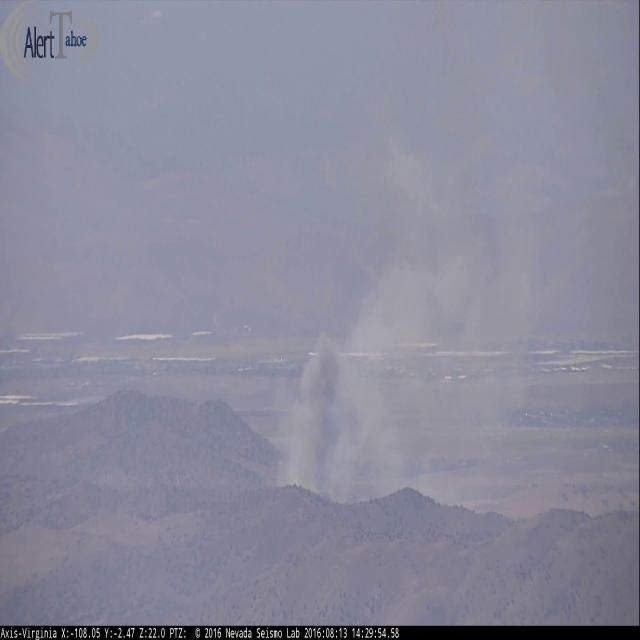smoke: (274, 121, 549, 504)
